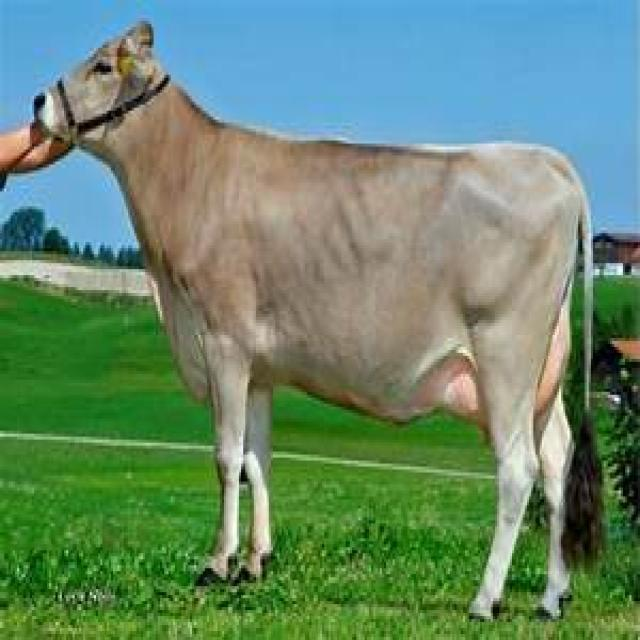cow: (36, 23, 590, 615)
